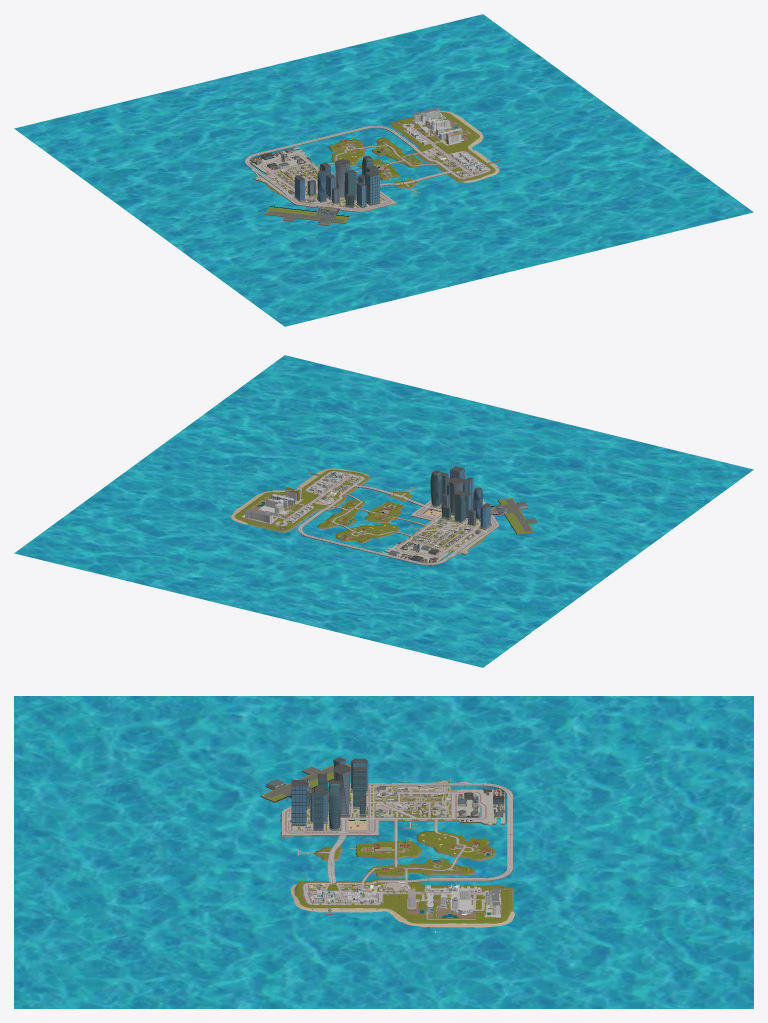
File: miami.glb
3 views of the same model, one above another, from view 1: azimuth 30°, elevation 25°; view 2: azimuth 150°, elevation 25°; view 3: azimuth 270°, elevation 25° (orthographic). The views are drawn at different scales.
Parts seen in each view (by area): view 1: mesh; view 2: mesh; view 3: mesh.
Part boxes in pixels (x1,y1,x2,y2): mesh: (14, 14, 753, 326); mesh: (14, 355, 753, 667); mesh: (14, 696, 753, 1008).
Size of what is drawn, in the model's own units: 3000 by 214 by 3000.
12 materials, 11 textured.
